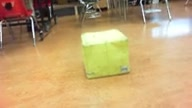cube: (81, 28, 131, 79)
